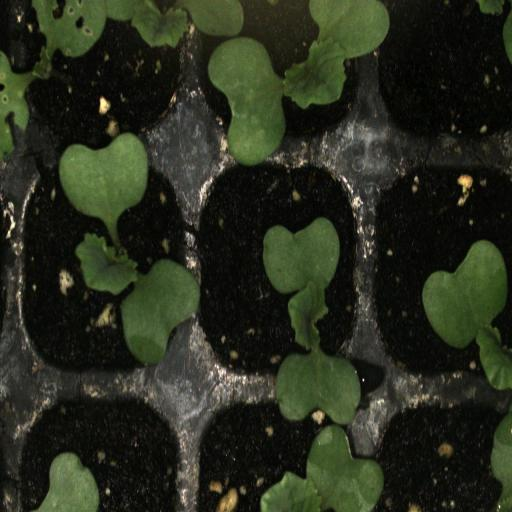Folha: (422, 240, 512, 391), (59, 132, 150, 233), (35, 452, 100, 512)
Germinacao: (10, 152, 191, 386), (190, 155, 368, 386), (11, 0, 193, 153), (191, 0, 367, 152)
